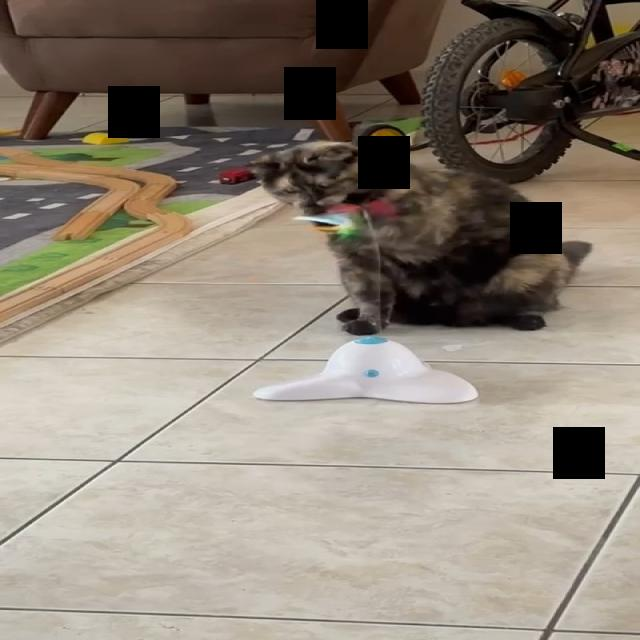authorized: (245, 139, 592, 335)
